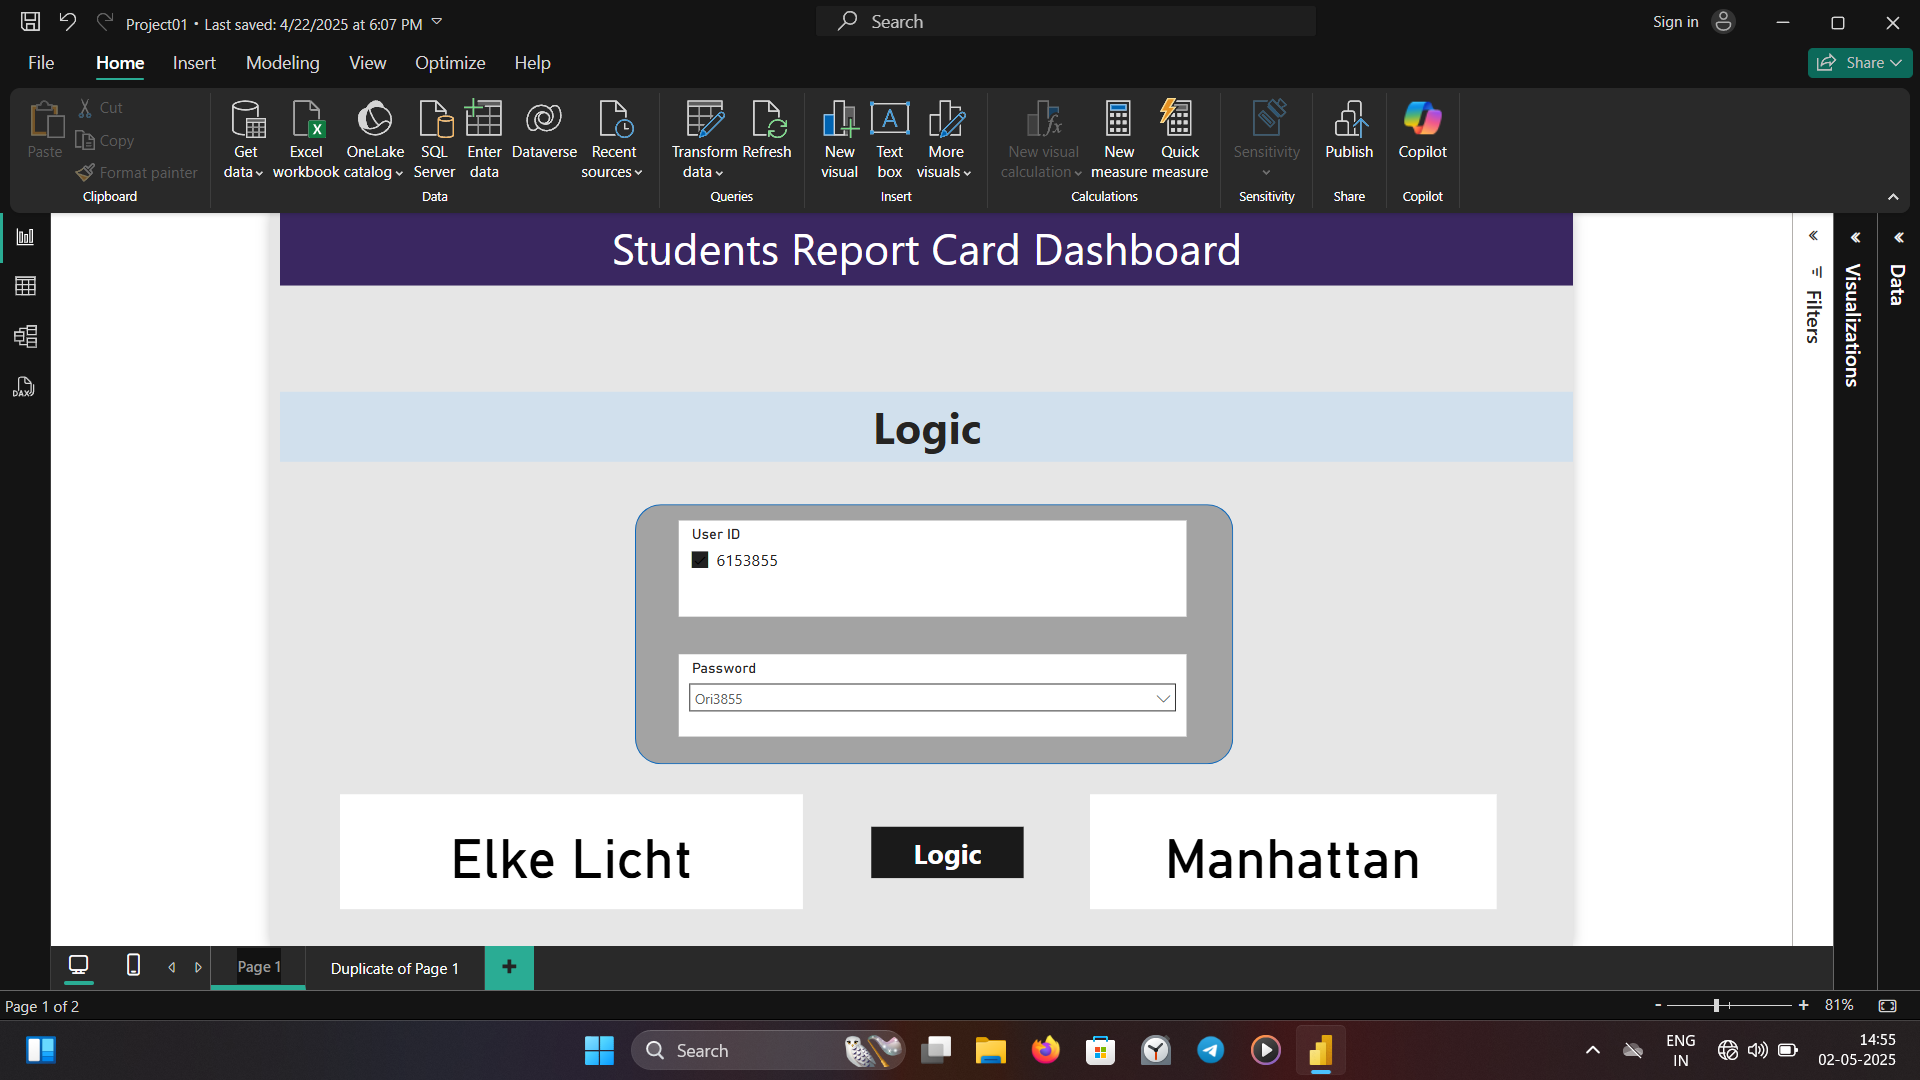

The page's visual inventory and layout, read from the dashboard file:
{"tool":"powerbi","page":{"name":"Page 1","canvas":[1280,720],"ordinal":0},"visuals":[{"type":"textbox","box":[9.6,0,1270.7,71.4],"z":0},{"type":"textbox","box":[9.6,175.6,1270.7,68.6],"z":1000},{"type":"shape","box":[358.1,285.4,587.3,255.2],"z":2000},{"type":"slicer","fields":{"Values":["Final_data.phone"]},"box":[400.7,301.9,498.1,94.7],"z":3000},{"type":"slicer","fields":{"Values":["Final_data.password"]},"box":[400.7,433.6,498.1,81],"z":4000},{"type":"card","fields":{"Values":["Final_data.Full_name"]},"box":[68.6,570.8,454.2,112.5],"z":5000},{"type":"card","fields":{"Values":["Final_data.Center"]},"box":[805.5,570.8,399.3,112.5],"z":6000},{"type":"actionButton","title":"Login","box":[590.1,602.4,149.6,50.8],"z":7000}]}

Visuals, with their boxes on the page's 1280x720 design canvas (x1, y1, x2, y2). These are canvas units, not pixel positions in the 1920x1080 screenshot, which may show the page scaled, cropped or inside an application window:
textbox: (10, 0, 1280, 71)
textbox: (10, 176, 1280, 244)
shape: (358, 285, 945, 541)
slicer - Final_data.phone: (401, 302, 899, 397)
slicer - Final_data.password: (401, 434, 899, 515)
card - Final_data.Full_name: (69, 571, 523, 683)
card - Final_data.Center: (806, 571, 1205, 683)
"Login" actionButton: (590, 602, 740, 653)
